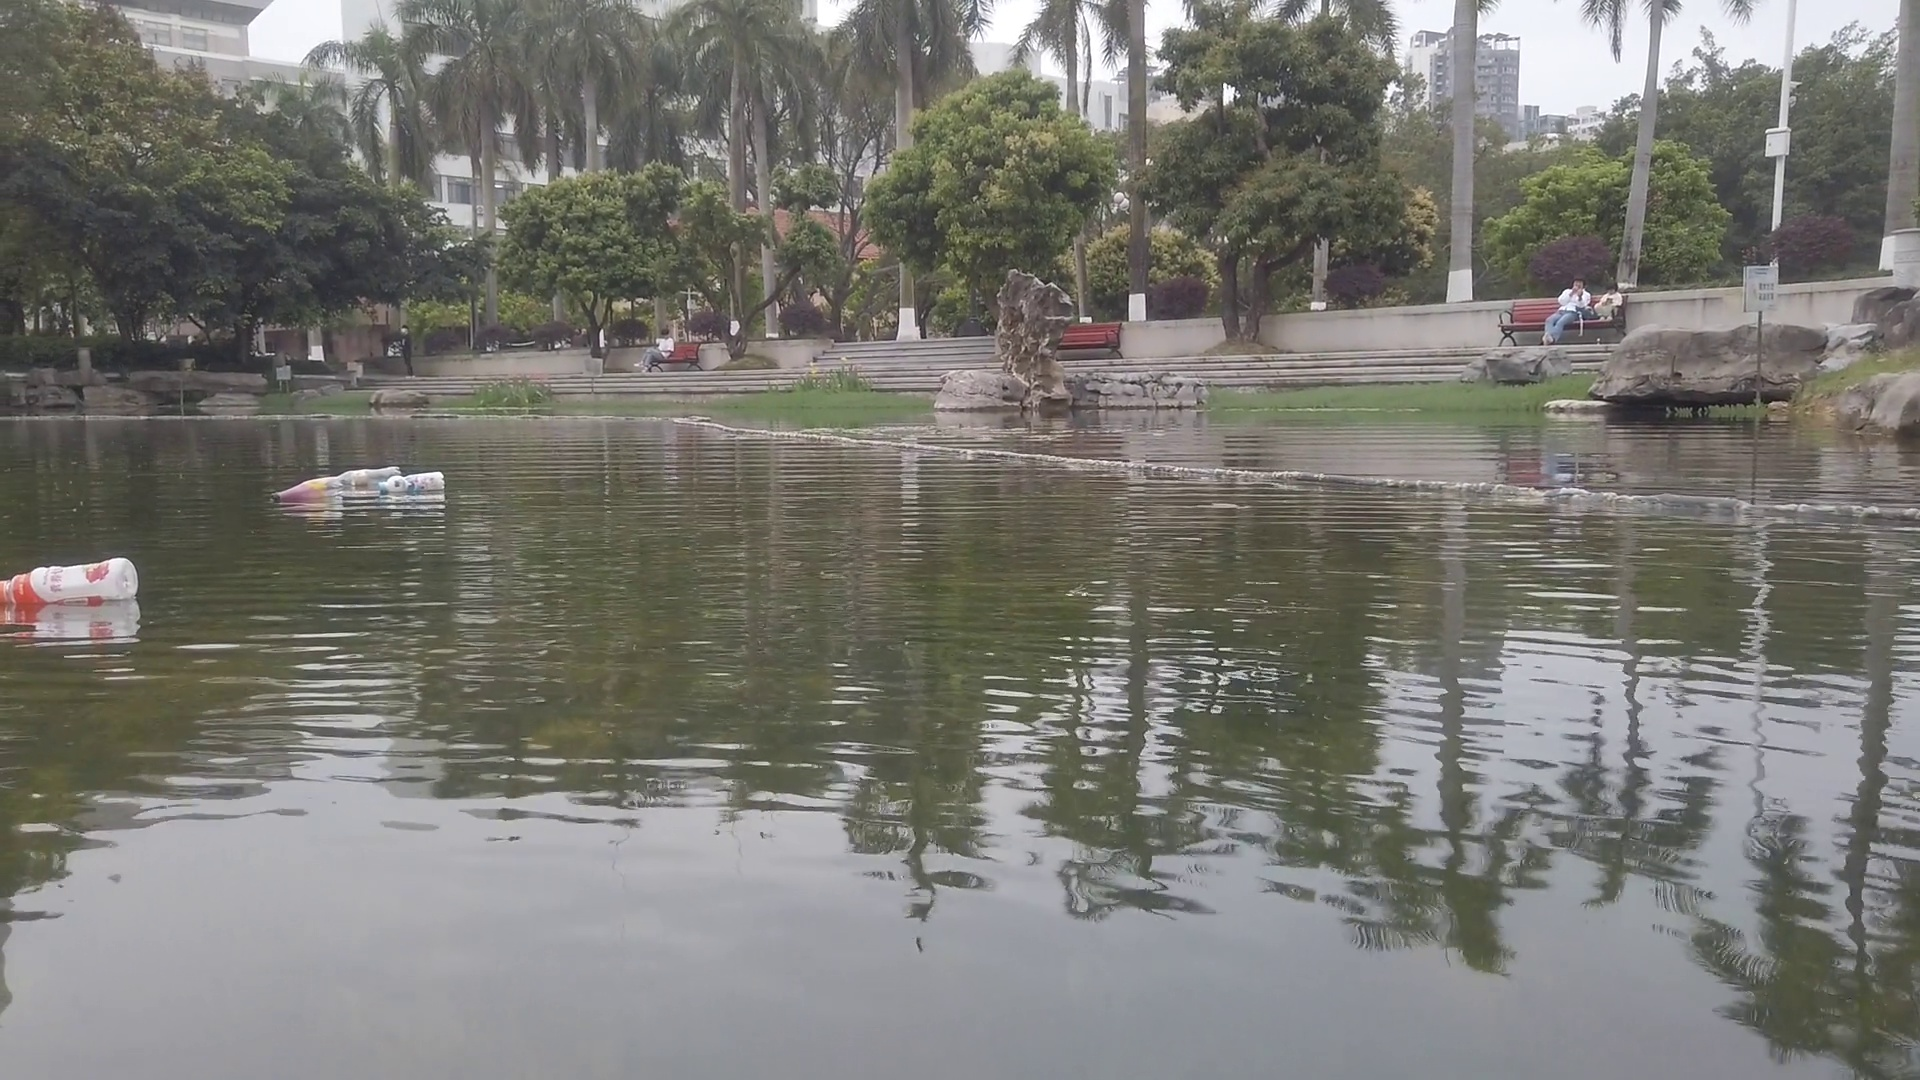bottle: (3, 553, 140, 604), (272, 476, 344, 506), (378, 469, 448, 498), (334, 468, 402, 497)
